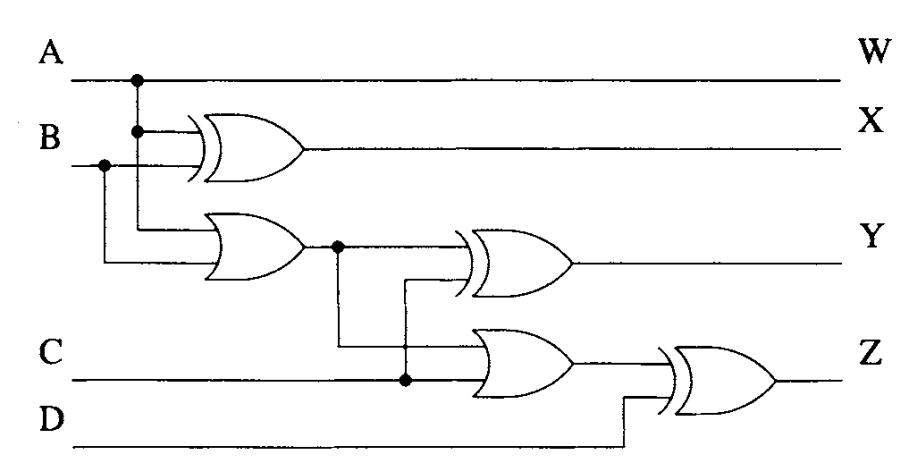or: (456, 318, 577, 411), (198, 202, 309, 294)
xor: (651, 338, 784, 427), (450, 216, 584, 304), (182, 107, 305, 190)
